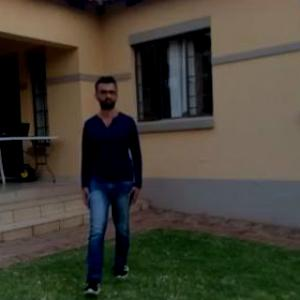follow: (79, 68, 147, 296)
